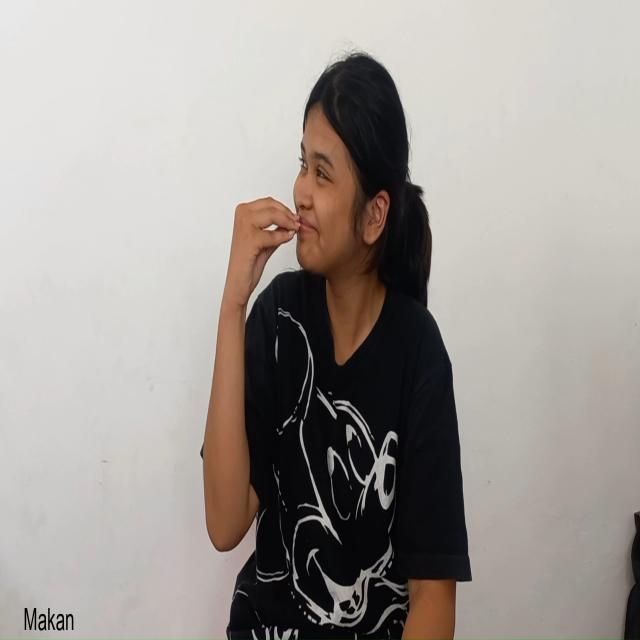Makan -BISINDO-: (222, 53, 391, 314)
